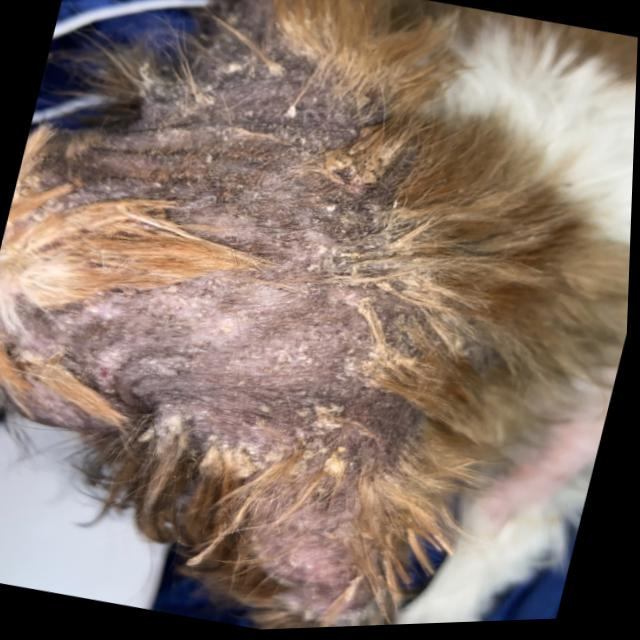demodicosis: (77, 226, 444, 458), (138, 53, 443, 267), (254, 472, 373, 583)
